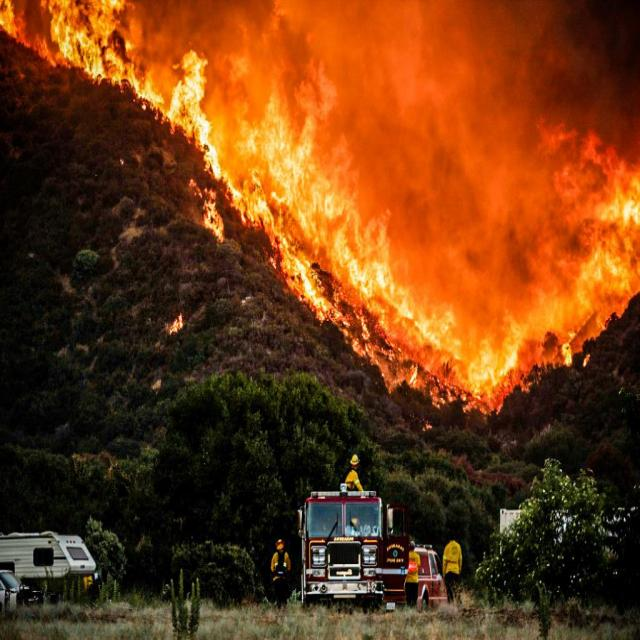fire: (1, 2, 640, 421)
